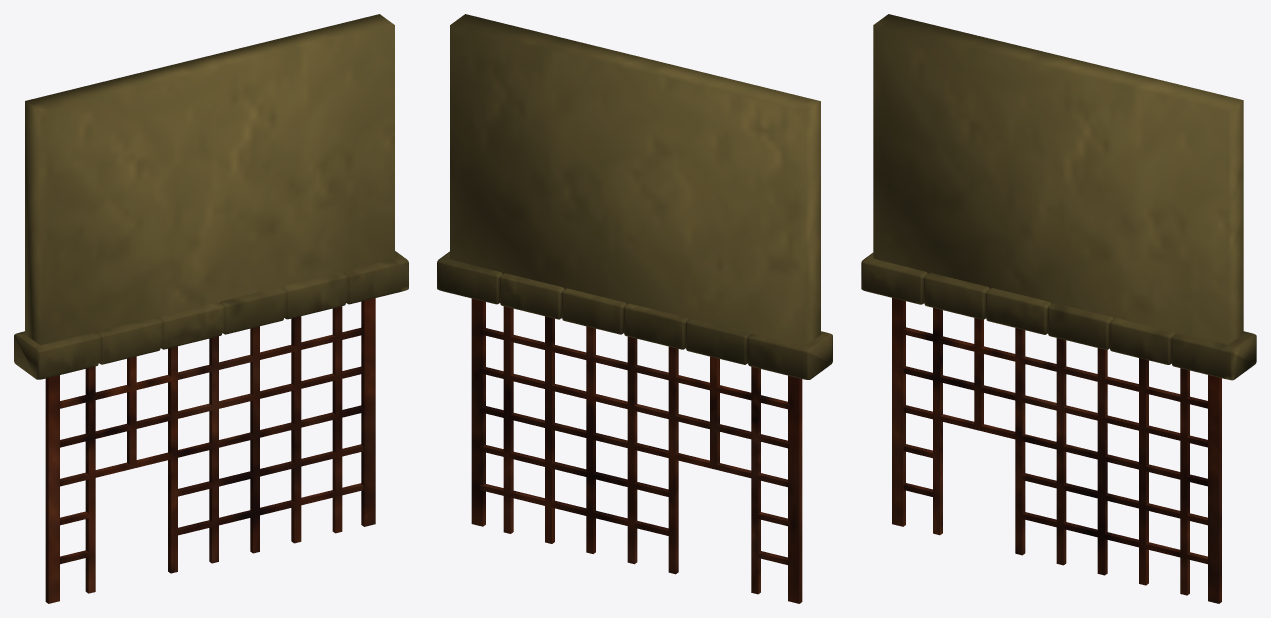
Rendered from Wall_6.fbx.
3 renders of one model, left to right at view 1: azimuth 30°, elevation 25°; view 2: azimuth 150°, elevation 25°; view 3: azimuth 330°, elevation 25°, orthographic.
Parts seen in each view (by area): view 1: Wall_6; view 2: Wall_6; view 3: Wall_6.
Part boxes in pixels (<box>): Wall_6: <box>14,14,408,603</box>; Wall_6: <box>437,14,832,603</box>; Wall_6: <box>861,14,1256,603</box>.
Size of the model in its own units: 643 by 828 by 74.99.
2 materials, 2 textured.
